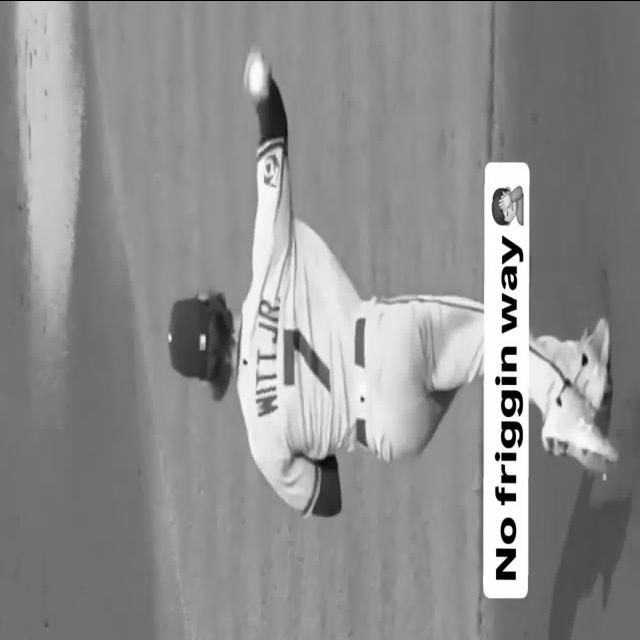baseball: (248, 53, 264, 100)
shoe: (541, 384, 619, 473), (574, 315, 610, 409)
